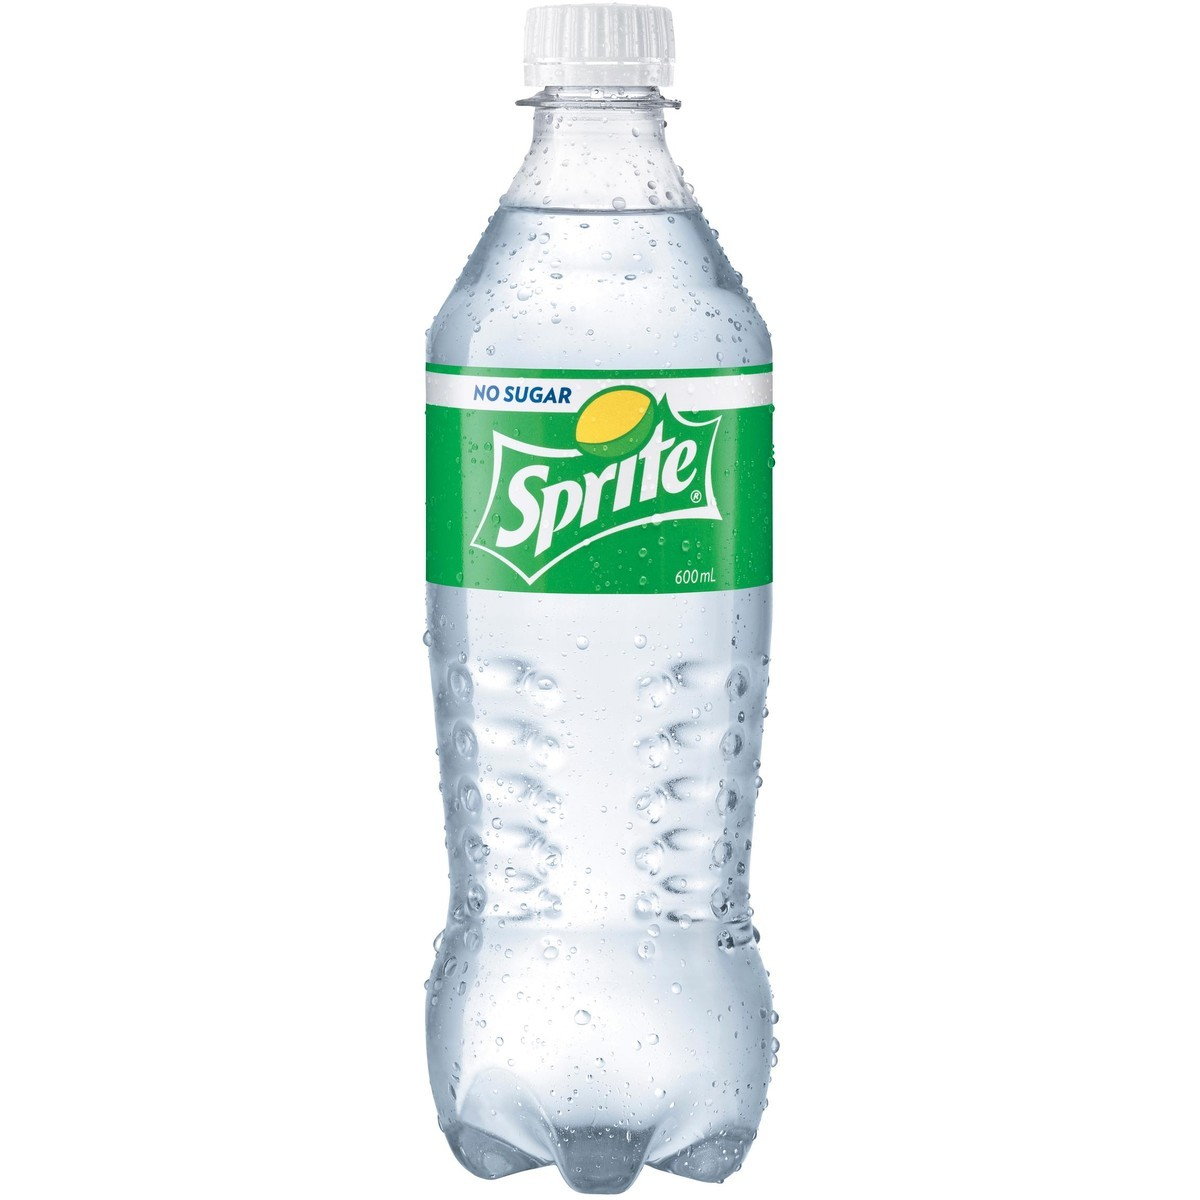Sprite: (375, 20, 785, 1193)
